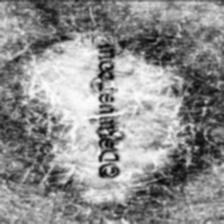Non-Cancerous Skin Condition: (41, 42, 187, 188)
